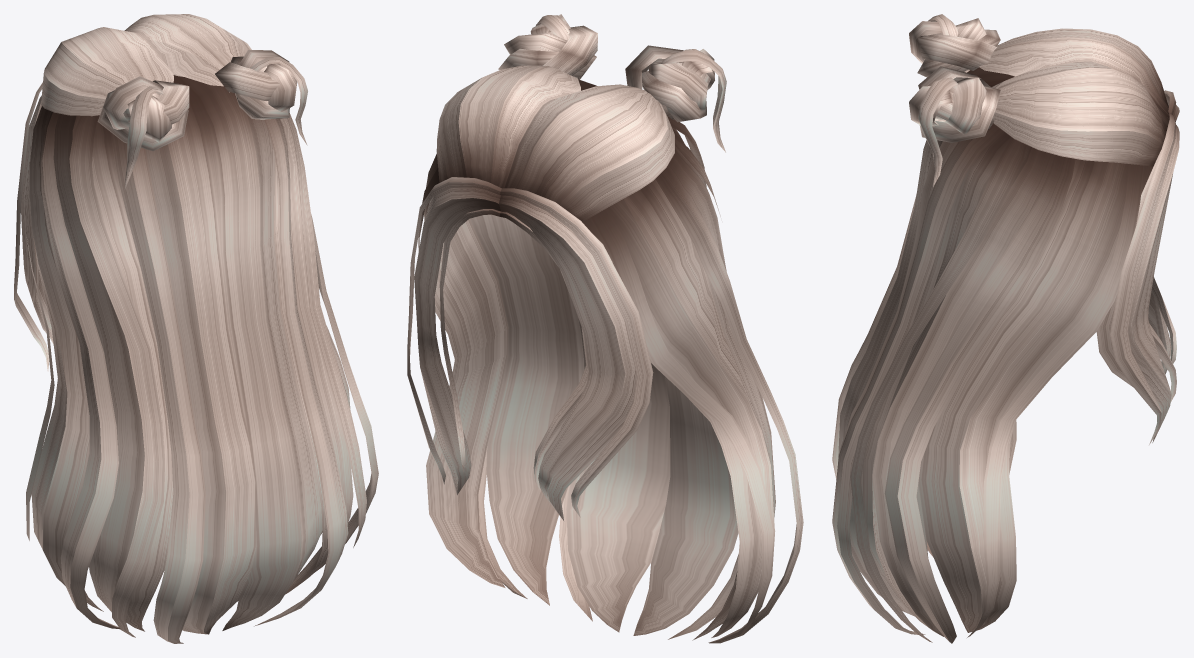
3 renders of one model, left to right at view 1: azimuth 30°, elevation 25°; view 2: azimuth 150°, elevation 25°; view 3: azimuth 270°, elevation 25°, orthographic. The views are drawn at different scales.
Visible parts, largest first — view 1: geometry_0; view 2: geometry_0; view 3: geometry_0.
Boxes of the visible parts, <box> form: geometry_0: <box>14,14,378,643</box>; geometry_0: <box>407,14,803,643</box>; geometry_0: <box>832,14,1179,643</box>.
Size of the model in its own units: 2 by 3.3 by 1.82.
1 material, 1 textured.
